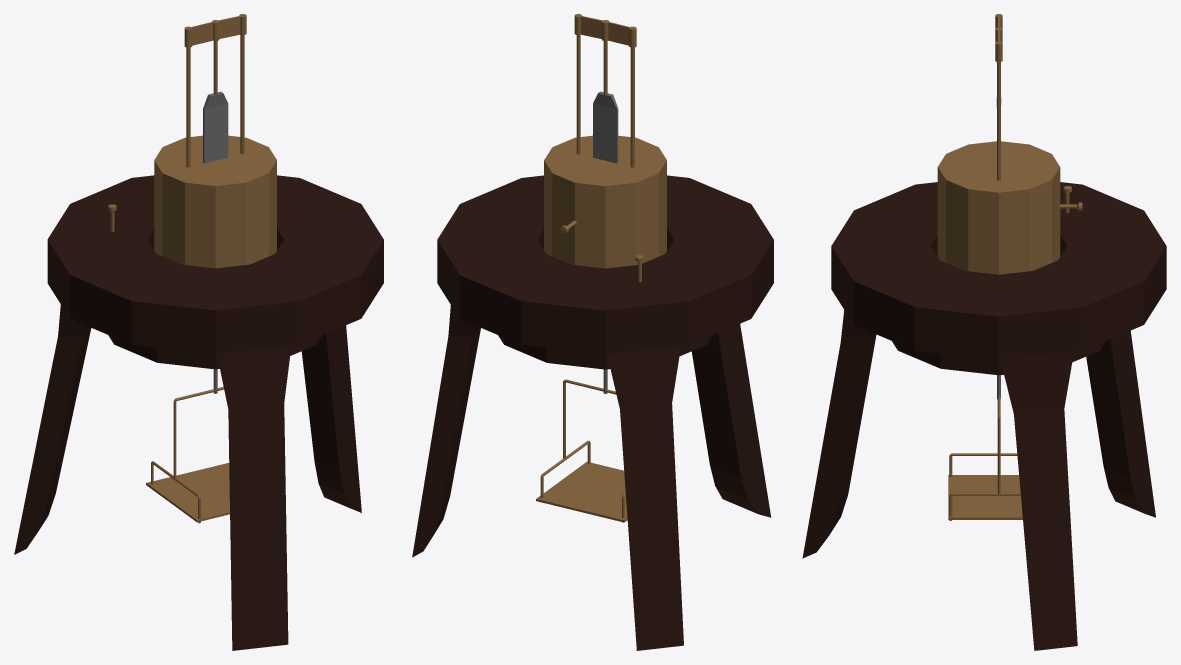
The model's file is QuartzElectrometer.fbx.
3 renders of one model, left to right at view 1: azimuth 30°, elevation 25°; view 2: azimuth 150°, elevation 25°; view 3: azimuth 270°, elevation 25°, orthographic.
Visible parts, largest first — view 1: Cylinder, Cylinder.001, Plane, Plane.001, Cylinder.005, Cylinder.003, Cylinder.004; view 2: Cylinder, Cylinder.001, Plane, Plane.001, Cylinder.005, Cylinder.003, Cylinder.004; view 3: Cylinder, Cylinder.001, Plane.
Boxes of the visible parts, x1,y1,x2,y2 form: Cylinder: [14, 175, 383, 650]; Cylinder.001: [154, 135, 276, 268]; Plane: [146, 386, 229, 523]; Plane.001: [203, 91, 228, 163]; Cylinder.005: [184, 14, 246, 47]; Cylinder.003: [186, 47, 190, 167]; Cylinder.004: [240, 35, 244, 154]; Cylinder: [412, 175, 773, 650]; Cylinder.001: [544, 135, 666, 268]; Plane: [536, 379, 627, 522]; Plane.001: [593, 91, 618, 163]; Cylinder.005: [574, 14, 636, 47]; Cylinder.003: [630, 47, 634, 167]; Cylinder.004: [576, 35, 580, 154]; Cylinder: [802, 182, 1166, 650]; Cylinder.001: [937, 141, 1060, 274]; Plane: [948, 395, 1022, 520].
Bounding box in the file's own units: 305 × 513 × 312.
